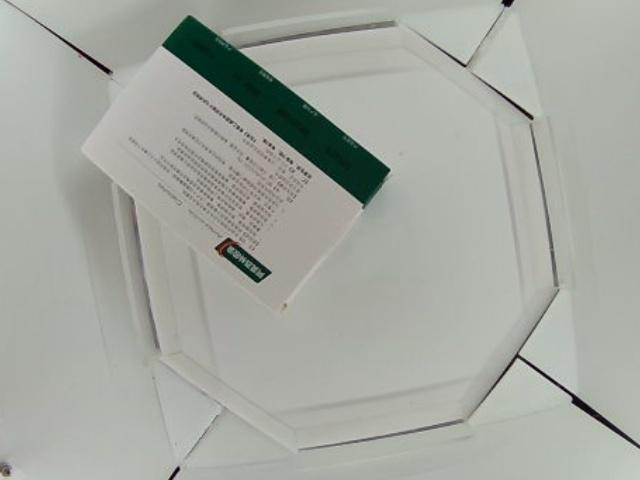Medicine: (82, 15, 392, 312)
